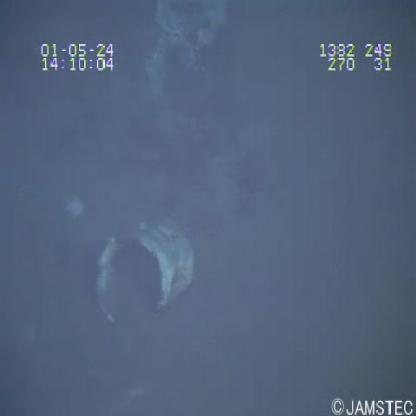Rác: (88, 210, 198, 340)
